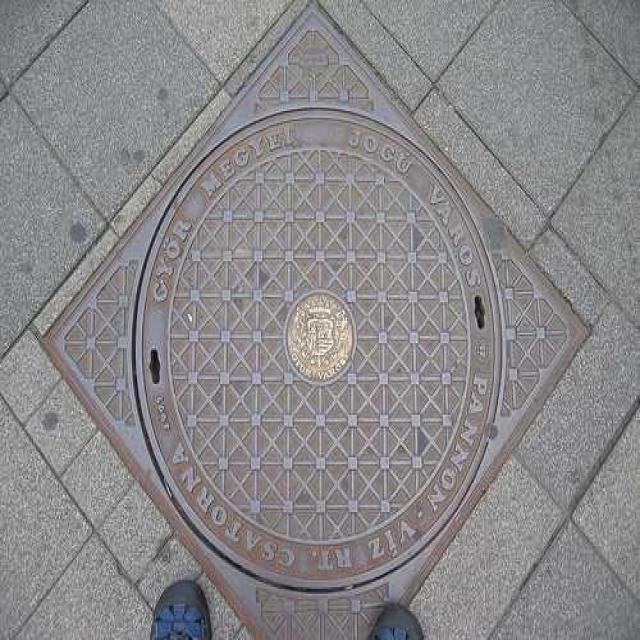manhole: (44, 5, 586, 637)
